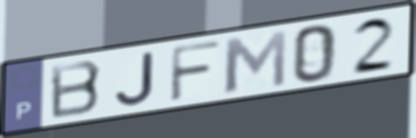0: (290, 22, 339, 85)
2: (347, 15, 400, 75)
B: (48, 58, 105, 122)
F: (167, 39, 223, 105)
J: (113, 49, 157, 108)
M: (220, 27, 289, 95)
